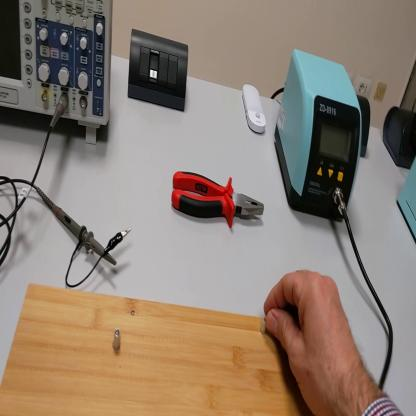hand: (264, 268, 367, 415)
oscilloscope: (2, 4, 114, 145)
oscilloscope probe tip: (41, 189, 117, 264)
pliers: (170, 168, 266, 230)
socket: (384, 107, 416, 167), (359, 97, 372, 158)
welder base: (397, 149, 416, 242)
welder station: (273, 44, 362, 223)
working area: (2, 284, 315, 416)
